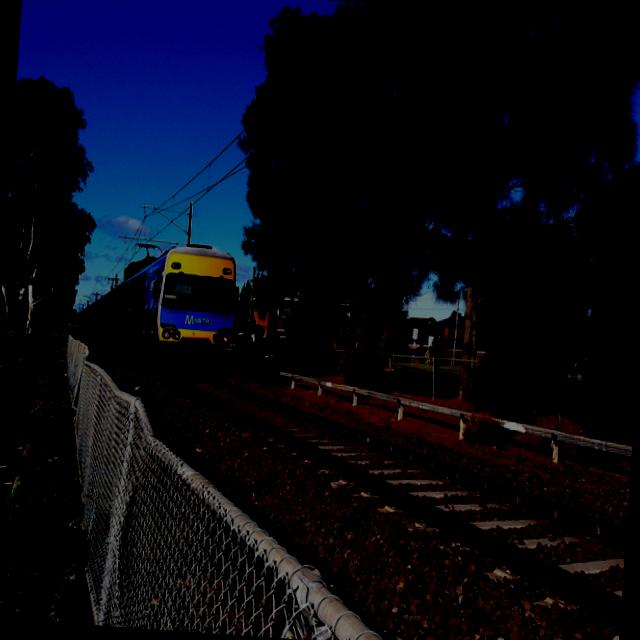Vehicle: (0, 323, 38, 369)
